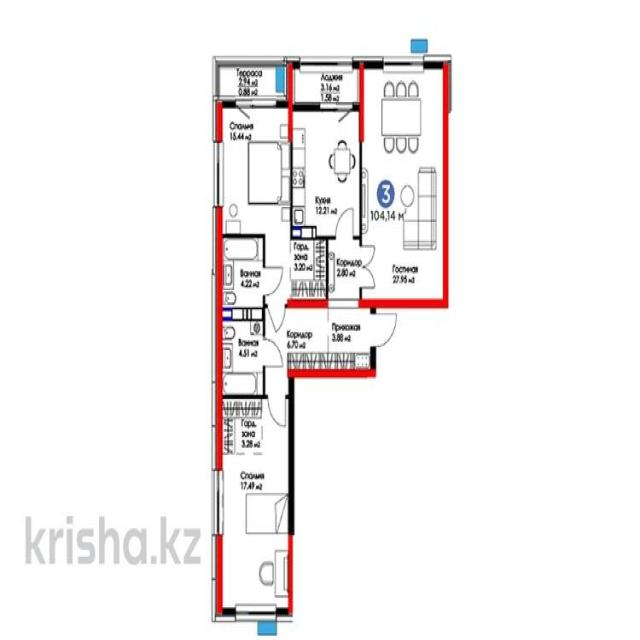balcony: (217, 64, 286, 103), (294, 66, 358, 100)
bathroom: (220, 237, 265, 315), (220, 320, 264, 397)
hallway: (264, 311, 372, 374)
kitchen: (292, 109, 362, 236)
living_room: (365, 67, 446, 300), (222, 401, 290, 612), (218, 109, 288, 233)
other: (292, 238, 326, 300)
